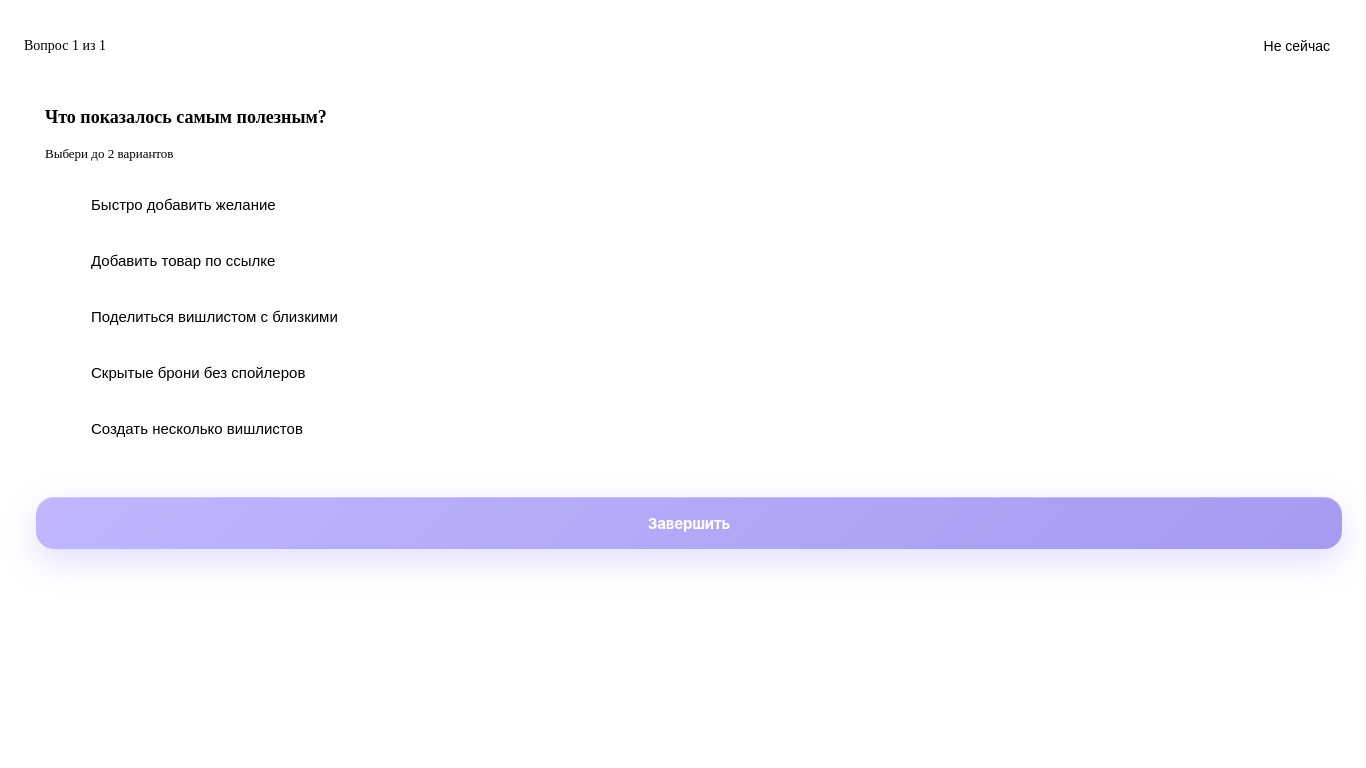
Scenario: SurveyScreen — Q3 multi-choice UX › primary CTA is disabled with 0 picks; enabled with 1 pick
Expected: the heading "Что показалось самым полезным?" is shown, x1=45 y1=107 x2=327 y2=127
Expected: the button "Завершить" is disabled, x1=36 y1=497 x2=1342 y2=549
Click the checkbox "Быстро добавить желание". click: [183, 204]
box: x1=45 y1=180 x2=1321 y2=228
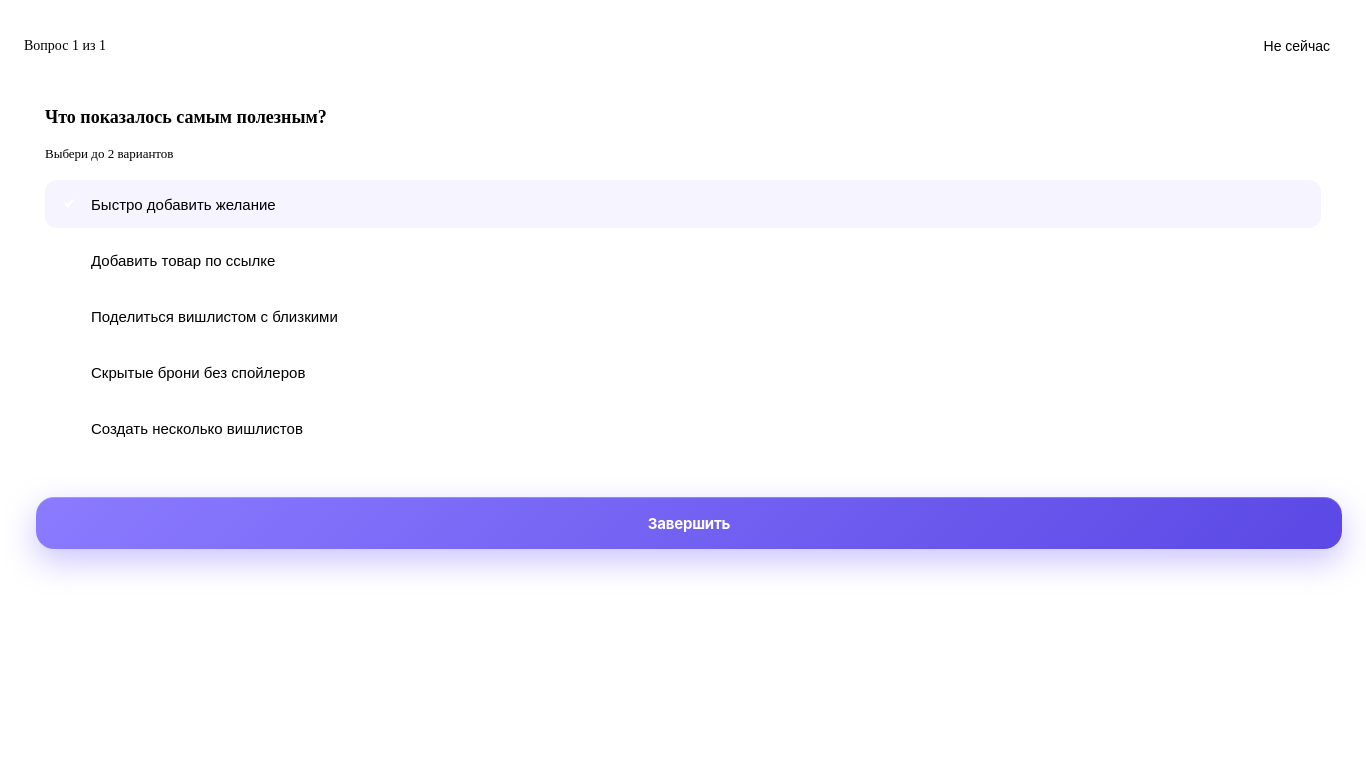
Now the button "Завершить" is enabled, box x1=36 y1=497 x2=1342 y2=549
